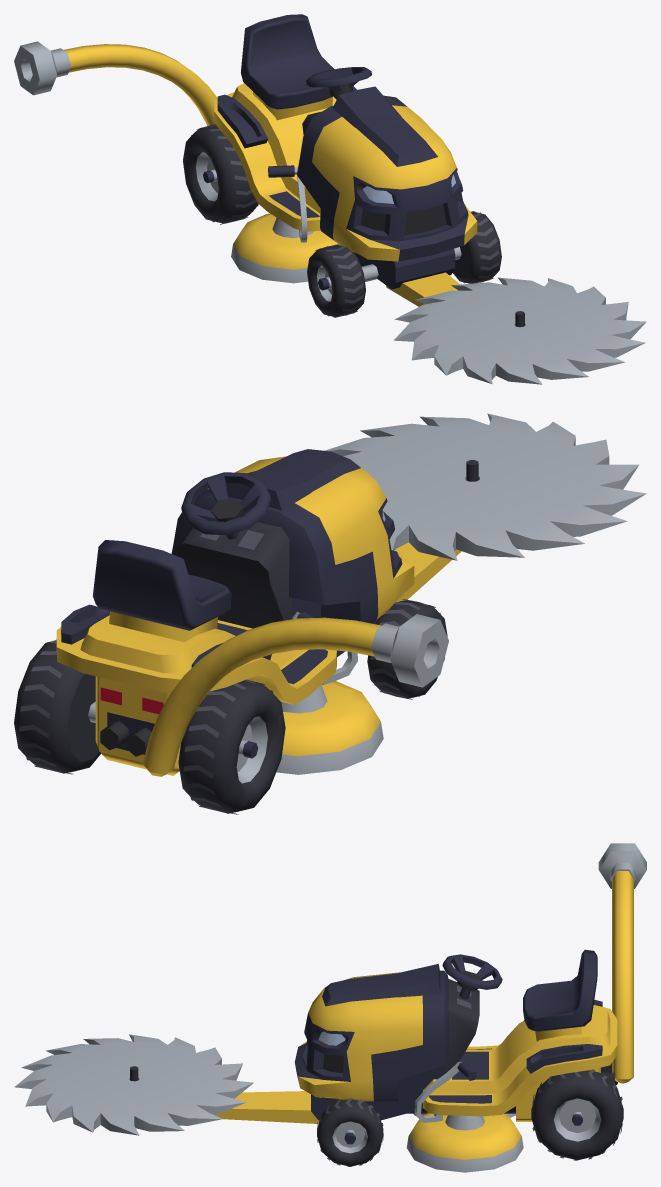
Rendered from LawnMower_Saw (1) 1.fbx.
The picture shows the model from 3 angles, top to bottom: view 1: azimuth 30°, elevation 25°; view 2: azimuth 150°, elevation 25°; view 3: azimuth 270°, elevation 25°; orthographic projection. The views are drawn at different scales.
Parts seen in each view (by area): view 1: 02_Base, Saw, Truba, 02_whell_back_right, 02_whell_front_right, 02_whell_front_left, Platform; view 2: 02_Base, Saw, Truba, 02_whell_back_right, 02_whell_back_left, 02_whell_front_right, Platform; view 3: 02_Base, Saw, 02_whell_back_left, Truba, 02_whell_front_left, Platform.
Part boxes in pixels (left/top/right/bottom): 02_Base: left=214, top=14, right=477, bottom=289; Saw: left=394, top=277, right=646, bottom=384; Truba: left=14, top=41, right=217, bottom=125; 02_whell_back_right: left=183, top=124, right=258, bottom=224; 02_whell_front_right: left=307, top=244, right=365, bottom=317; 02_whell_front_left: left=452, top=211, right=501, bottom=283; Platform: left=386, top=272, right=524, bottom=327; 02_Base: left=56, top=449, right=414, bottom=775; Saw: left=324, top=413, right=646, bottom=560; Truba: left=142, top=614, right=448, bottom=776; 02_whell_back_right: left=178, top=679, right=285, bottom=814; 02_whell_back_left: left=14, top=640, right=100, bottom=774; 02_whell_front_right: left=367, top=599, right=447, bottom=699; Platform: left=394, top=460, right=478, bottom=601; 02_Base: left=294, top=949, right=617, bottom=1172; Saw: left=14, top=1034, right=253, bottom=1135; 02_whell_back_left: left=531, top=1069, right=623, bottom=1160; Truba: left=598, top=843, right=646, bottom=1083; 02_whell_front_left: left=317, top=1098, right=383, bottom=1166; Platform: left=130, top=1066, right=319, bottom=1123.
Size of the model in its own units: 29.02 by 49.66 by 15.84.
